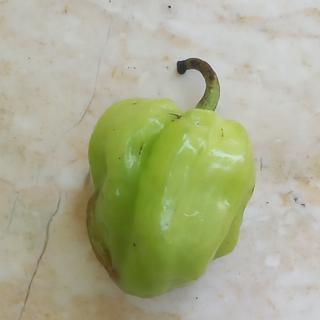striped: (83, 184, 123, 289), (164, 110, 185, 121), (136, 142, 146, 158)
